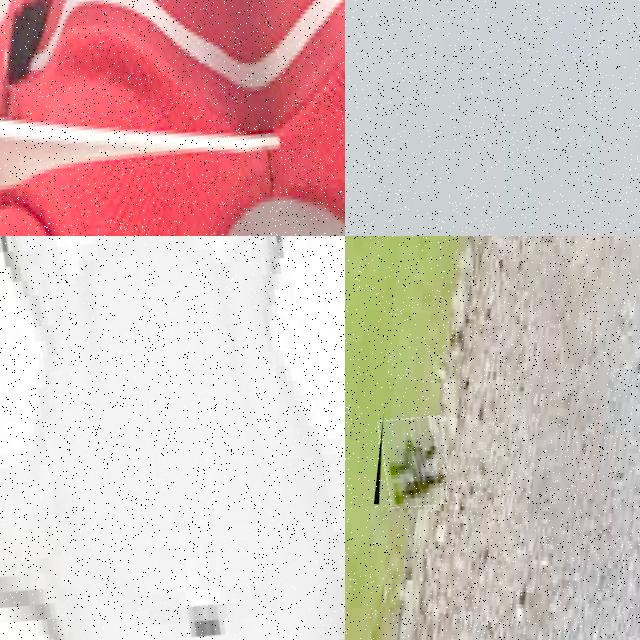drone: (0, 236, 345, 640), (0, 0, 345, 236), (373, 412, 452, 511)
